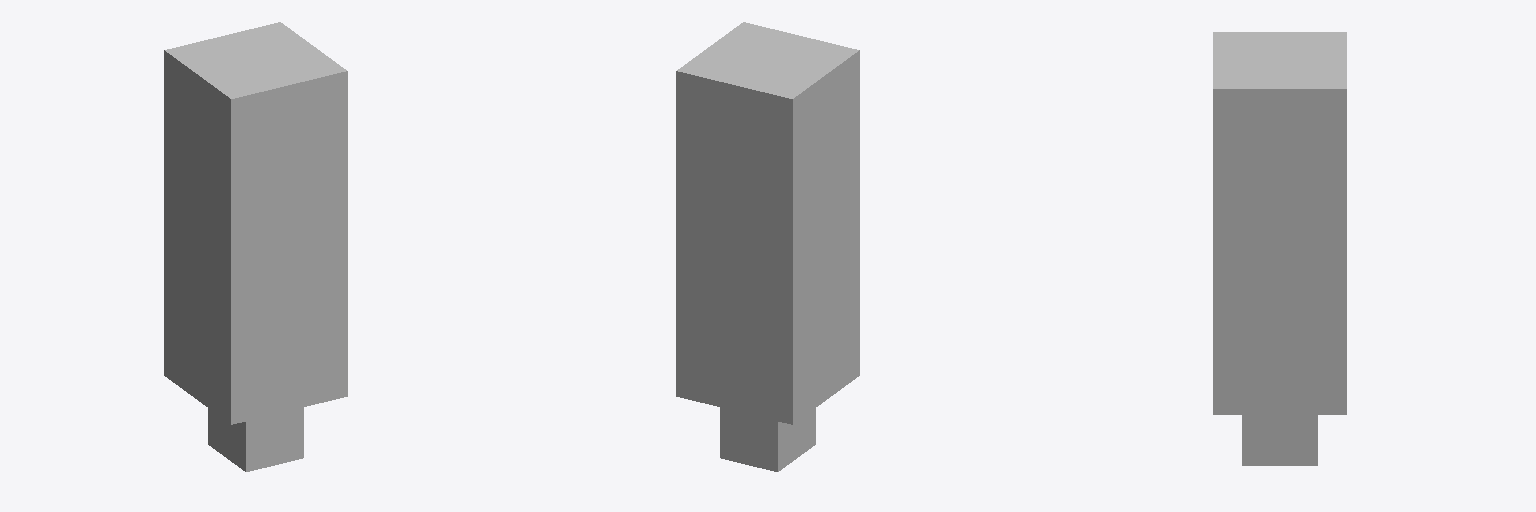
Rendered from tree3.obj.
3 renders of one model, left to right at view 1: azimuth 30°, elevation 25°; view 2: azimuth 150°, elevation 25°; view 3: azimuth 270°, elevation 25°, orthographic.
Visible parts, largest first — view 1: object 1; view 2: object 1; view 3: object 1.
Part boxes in pixels (x1,y1,x2,y2): object 1: (164, 22, 347, 471); object 1: (676, 22, 859, 471); object 1: (1213, 32, 1346, 465).
Size of the model in its own units: 2.8 by 9 by 2.8.